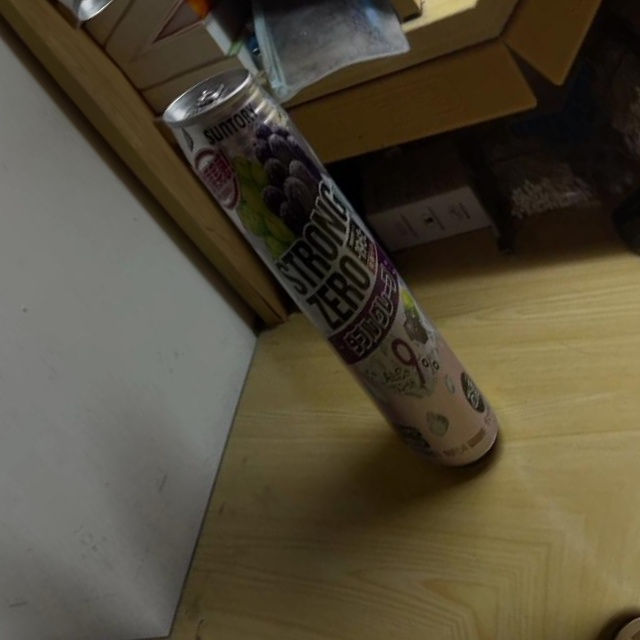Liquor: (138, 49, 541, 496)
